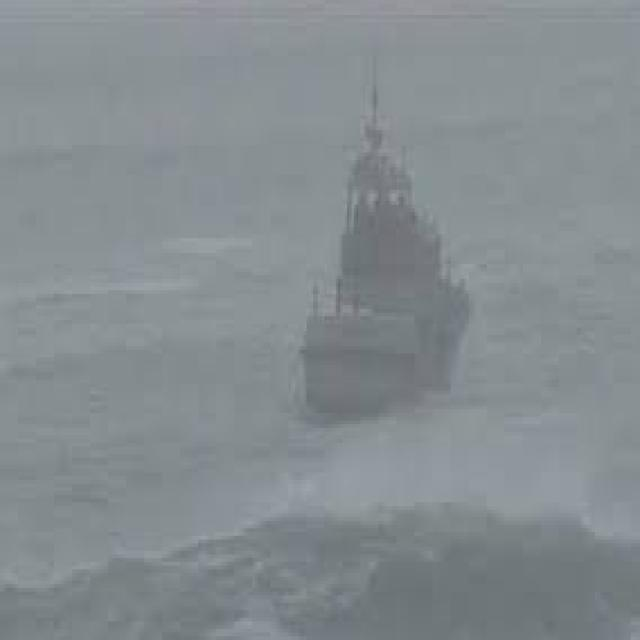fishing boat: (289, 79, 474, 409)
